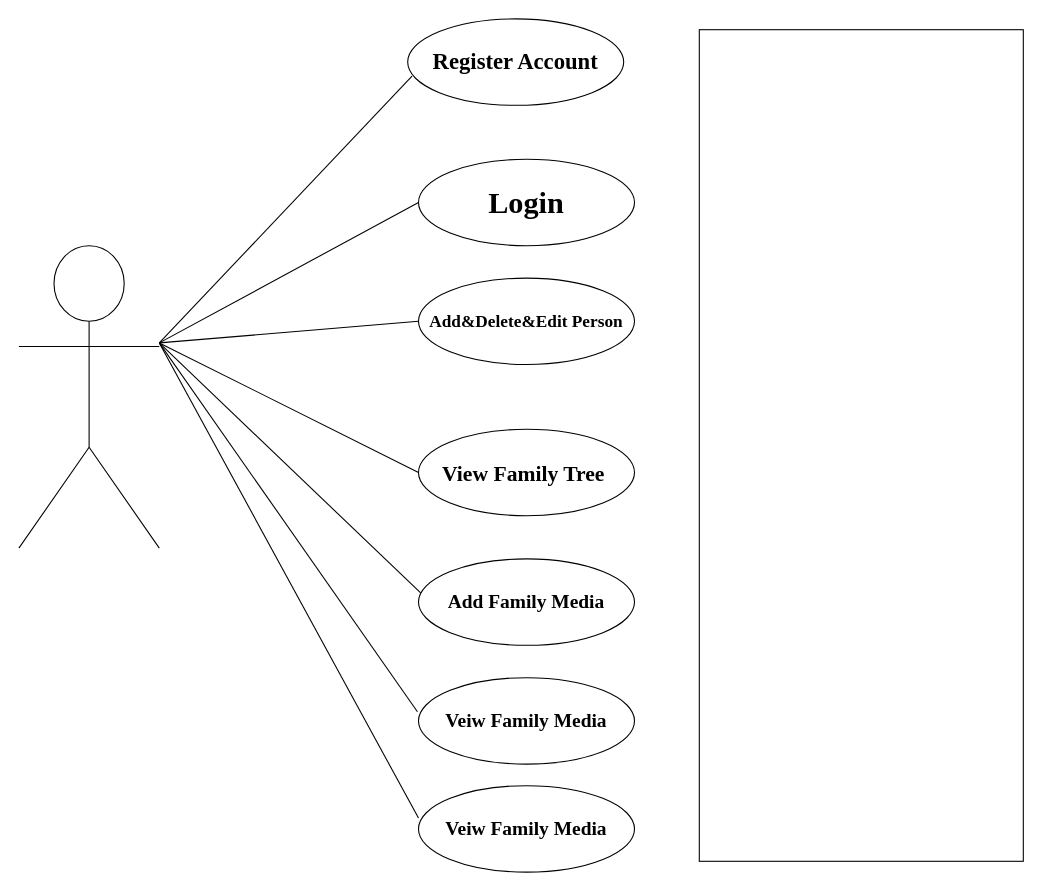
Image size: 1042x891. Some labels were removed from this diagram. The shapes that lost their labels are listed below. From the top down, each one's box as (x1, y1, x2, y2) in pixels, then its label:
(18, 245, 159, 548): User
(698, 29, 1023, 861): System
